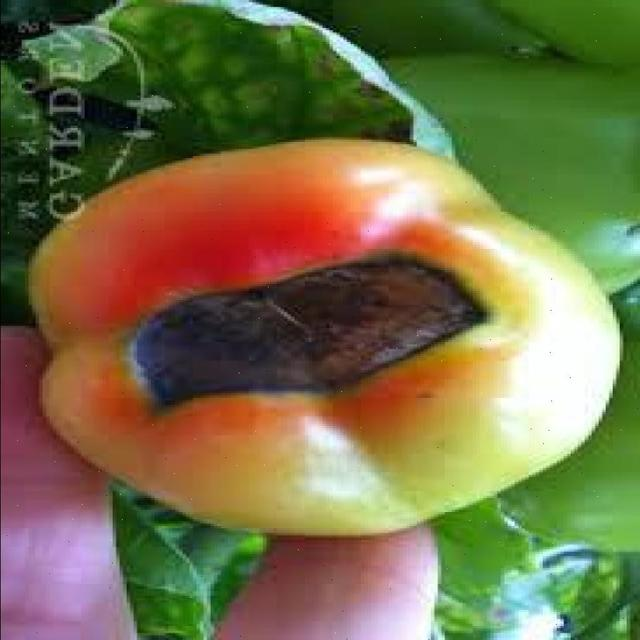Blossom End Rot Fruit: (78, 173, 332, 277)
